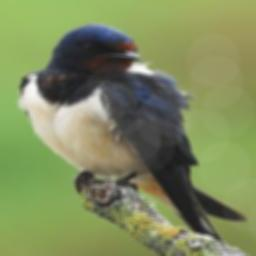Swallow: (16, 22, 250, 244)
